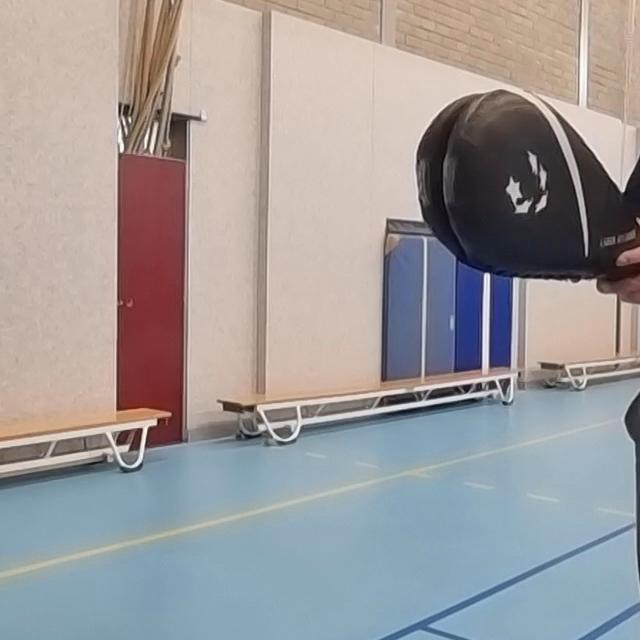paddle: (410, 86, 640, 286)
